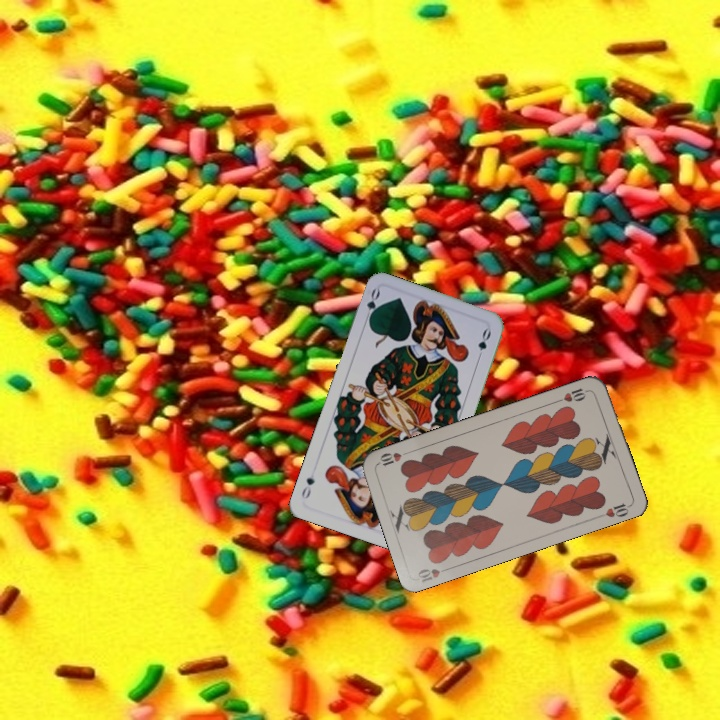GO: (361, 285, 383, 326)
H10: (414, 563, 454, 585), (553, 384, 592, 405)
